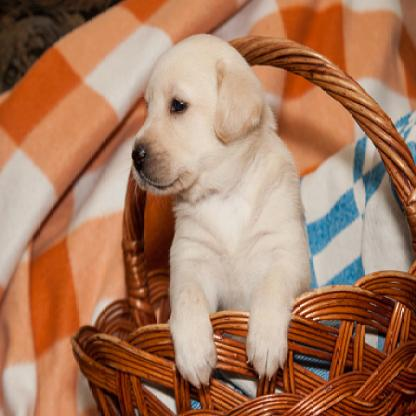dog: (130, 32, 312, 383)
